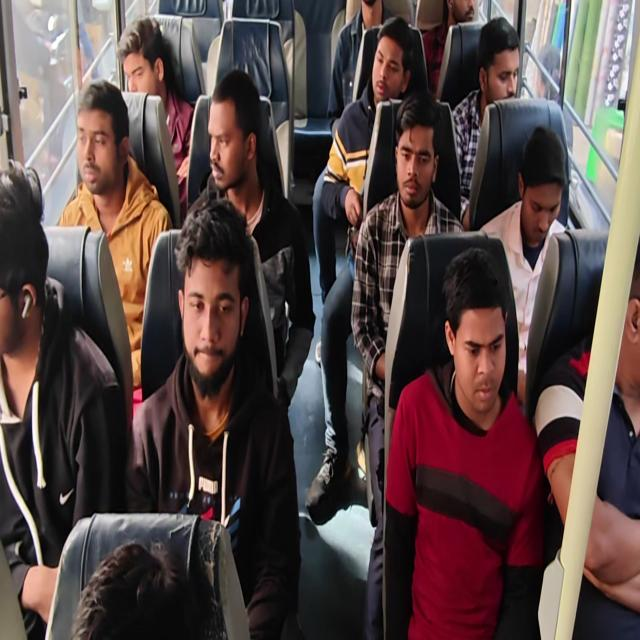person: (1, 2, 638, 638), (124, 197, 302, 638), (350, 90, 466, 638), (383, 246, 545, 638), (0, 160, 125, 638), (306, 15, 414, 512), (186, 68, 316, 411), (534, 230, 640, 637), (56, 78, 173, 396), (478, 125, 568, 408), (116, 15, 194, 223), (70, 539, 225, 639), (451, 16, 520, 228), (327, 0, 392, 126), (421, 0, 475, 97), (533, 44, 561, 100)
